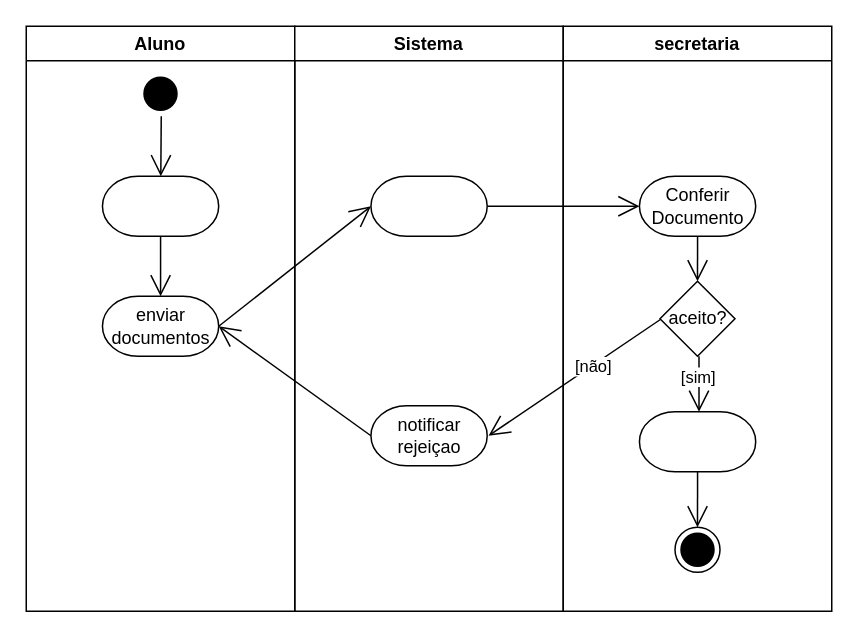
The diagram is 858 pixels wide and 638 high, and some of its shapes have lost their labels. The shapes that lost their labels are listed below. From the top down, each one's box as (x1, y1, x2, y2) in pixels, then its label:
(101, 175, 219, 236): solicitar matricula
(369, 175, 487, 236): receber documento
(638, 410, 756, 472): criar matricula
